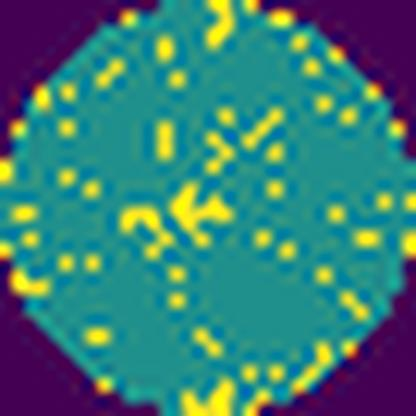Center: (117, 180, 244, 260)
